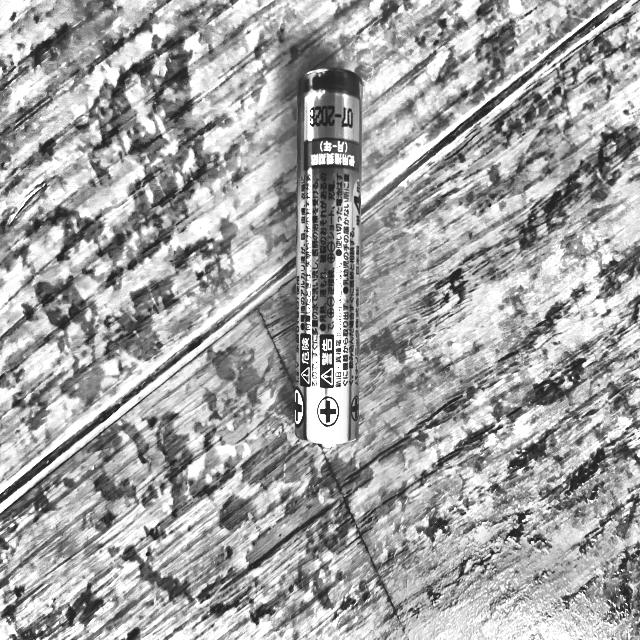drycell: (277, 31, 373, 472)
